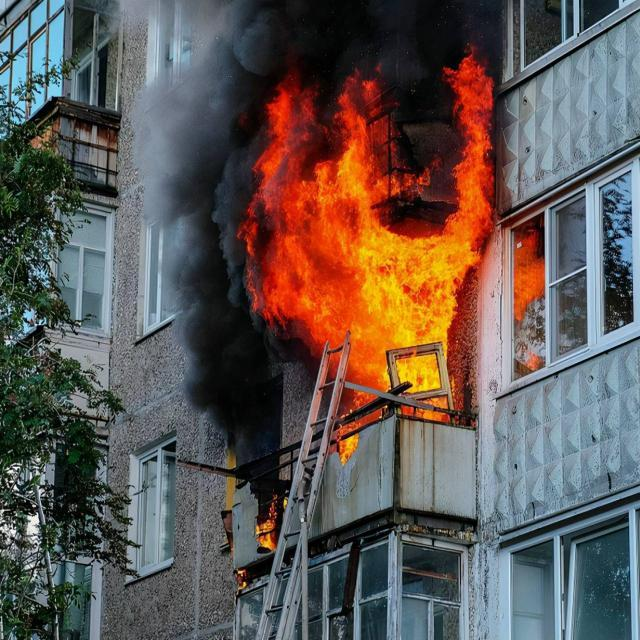Fire: (245, 56, 500, 424)
Smoke: (128, 4, 274, 496), (272, 0, 498, 55)
